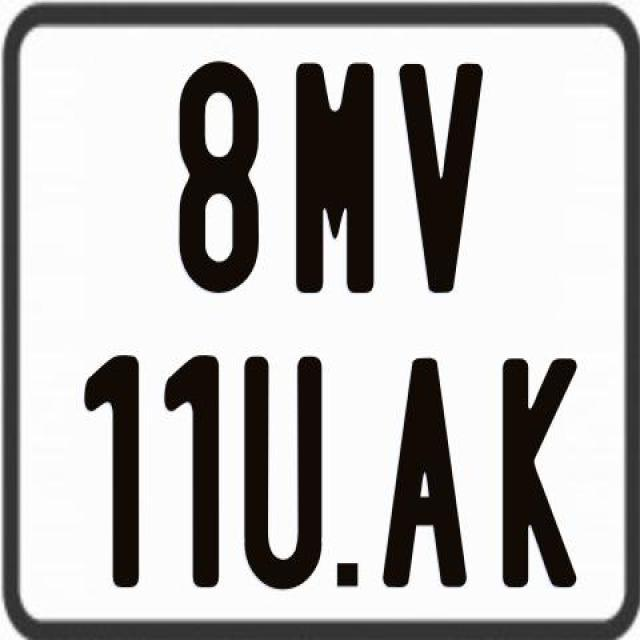1: (162, 354, 222, 586), (82, 356, 138, 590)
8: (175, 56, 258, 293)
A: (378, 356, 468, 590)
K: (499, 355, 582, 587)
M: (294, 59, 372, 298)
U: (244, 354, 328, 588)
V: (397, 62, 488, 301)
